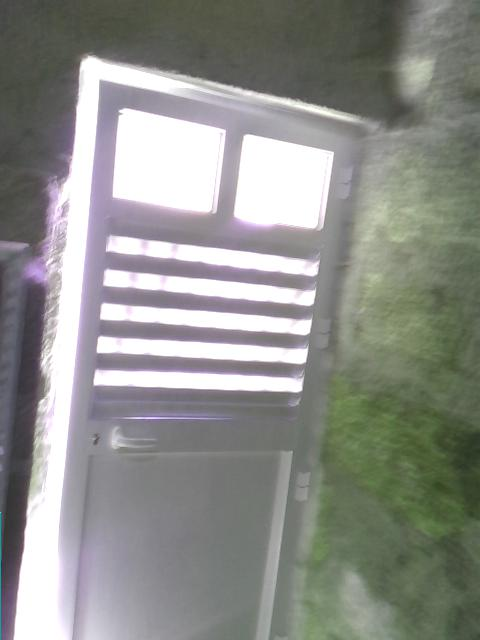closed_door: (55, 79, 366, 638)
